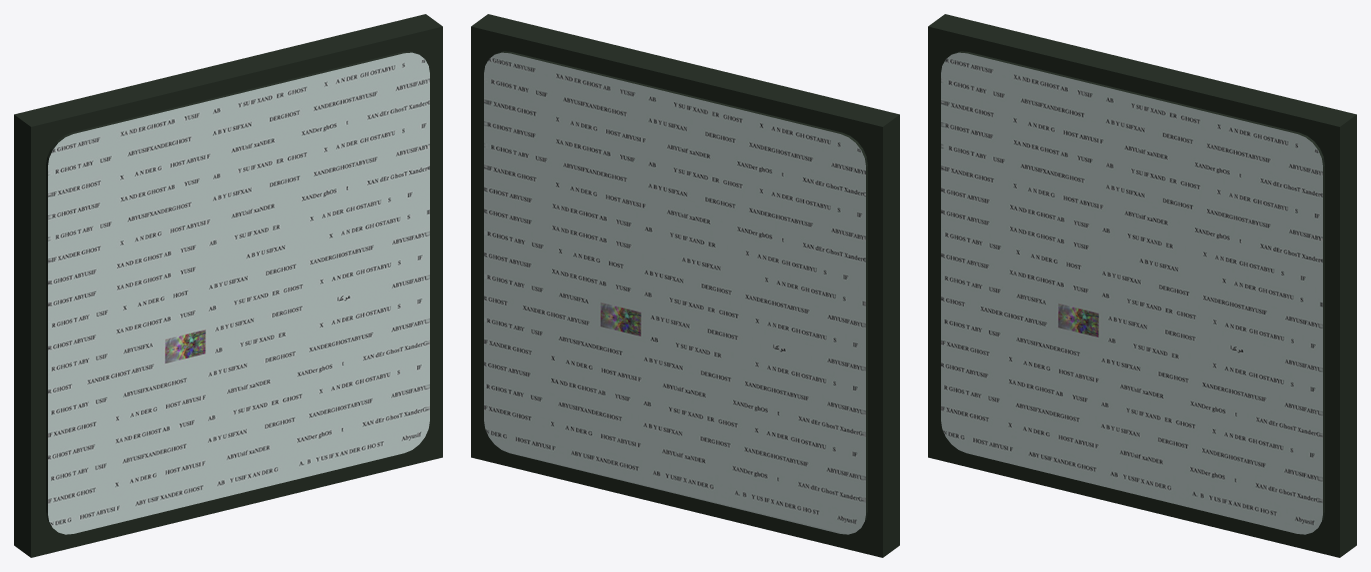
File: howakeda.gltf
The picture shows the model from 3 angles, left to right: view 1: azimuth 30°, elevation 25°; view 2: azimuth 150°, elevation 25°; view 3: azimuth 330°, elevation 25°; orthographic projection.
Parts seen in each view (by area): view 1: cube; view 2: cube; view 3: cube.
Boxes of the visible parts, x1,y1,x2,y2 form: cube: [14, 14, 442, 557]; cube: [471, 14, 899, 557]; cube: [928, 14, 1356, 557].
Size of the model in its own units: 2 by 2 by 0.1757.
Materials: 2 (1 with a texture image).
